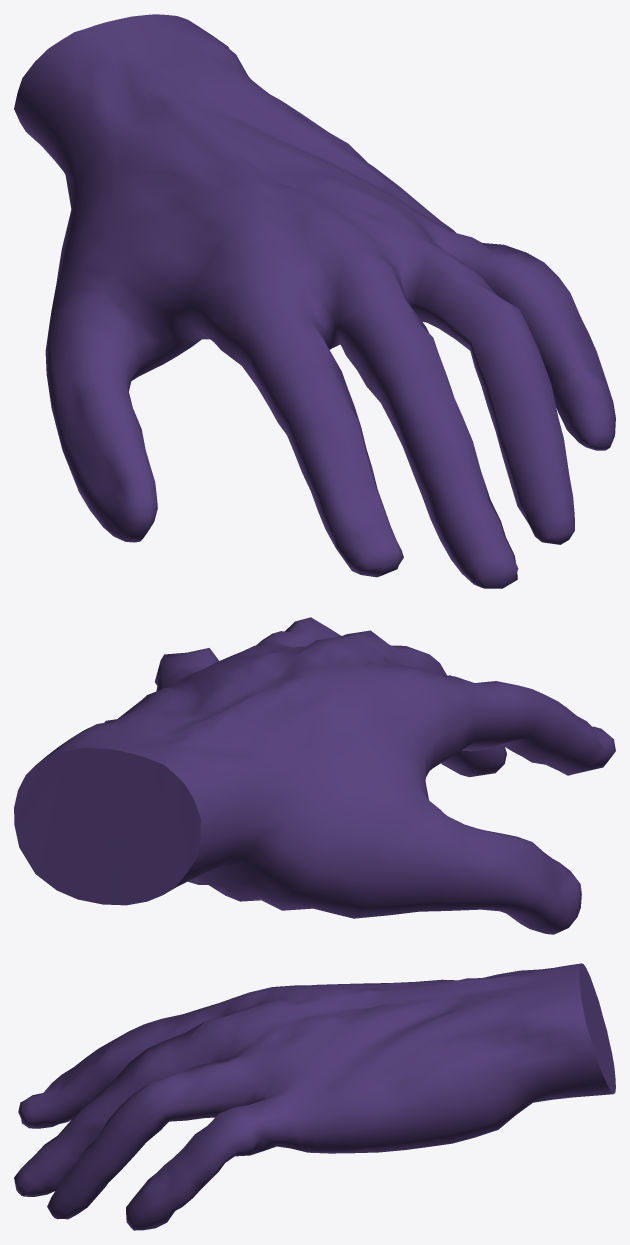
File: EditedLeft.fbx
3 views of the same model, one above another, from view 1: azimuth 30°, elevation 25°; view 2: azimuth 150°, elevation 25°; view 3: azimuth 270°, elevation 25° (orthographic). The views are drawn at different scales.
Visible parts, largest first — view 1: LeftHand; view 2: LeftHand; view 3: LeftHand.
Part boxes in pixels (x1,y1,x2,y2): LeftHand: [14, 14, 615, 588]; LeftHand: [14, 617, 615, 934]; LeftHand: [14, 963, 615, 1230].
Bounding box in the file's own units: 12.47 × 7.87 × 19.52.
